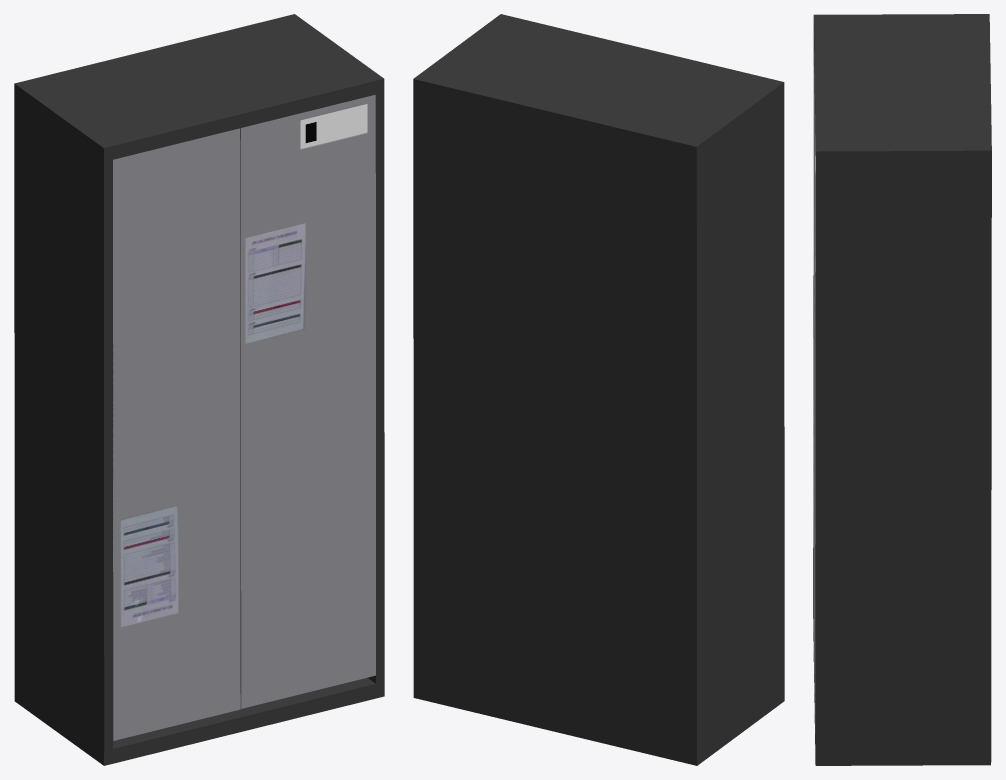
Rendered from Cabinet2.fbx.
3 renders of one model, left to right at view 1: azimuth 30°, elevation 25°; view 2: azimuth 150°, elevation 25°; view 3: azimuth 270°, elevation 25°, orthographic.
Parts seen in each view (by area): view 1: cabinet02; view 2: cabinet02; view 3: cabinet02.
Part boxes in pixels (<box>): cabinet02: <box>14,14,384,765</box>; cabinet02: <box>413,14,784,765</box>; cabinet02: <box>813,14,991,765</box>.
Size of the model in its own units: 79 by 165 by 43.5.
